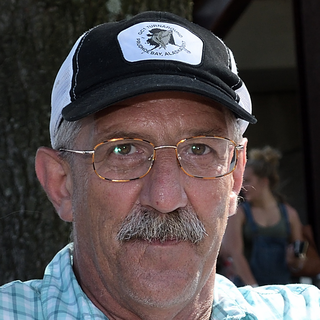eye: (103, 139, 146, 160), (180, 140, 220, 159)
